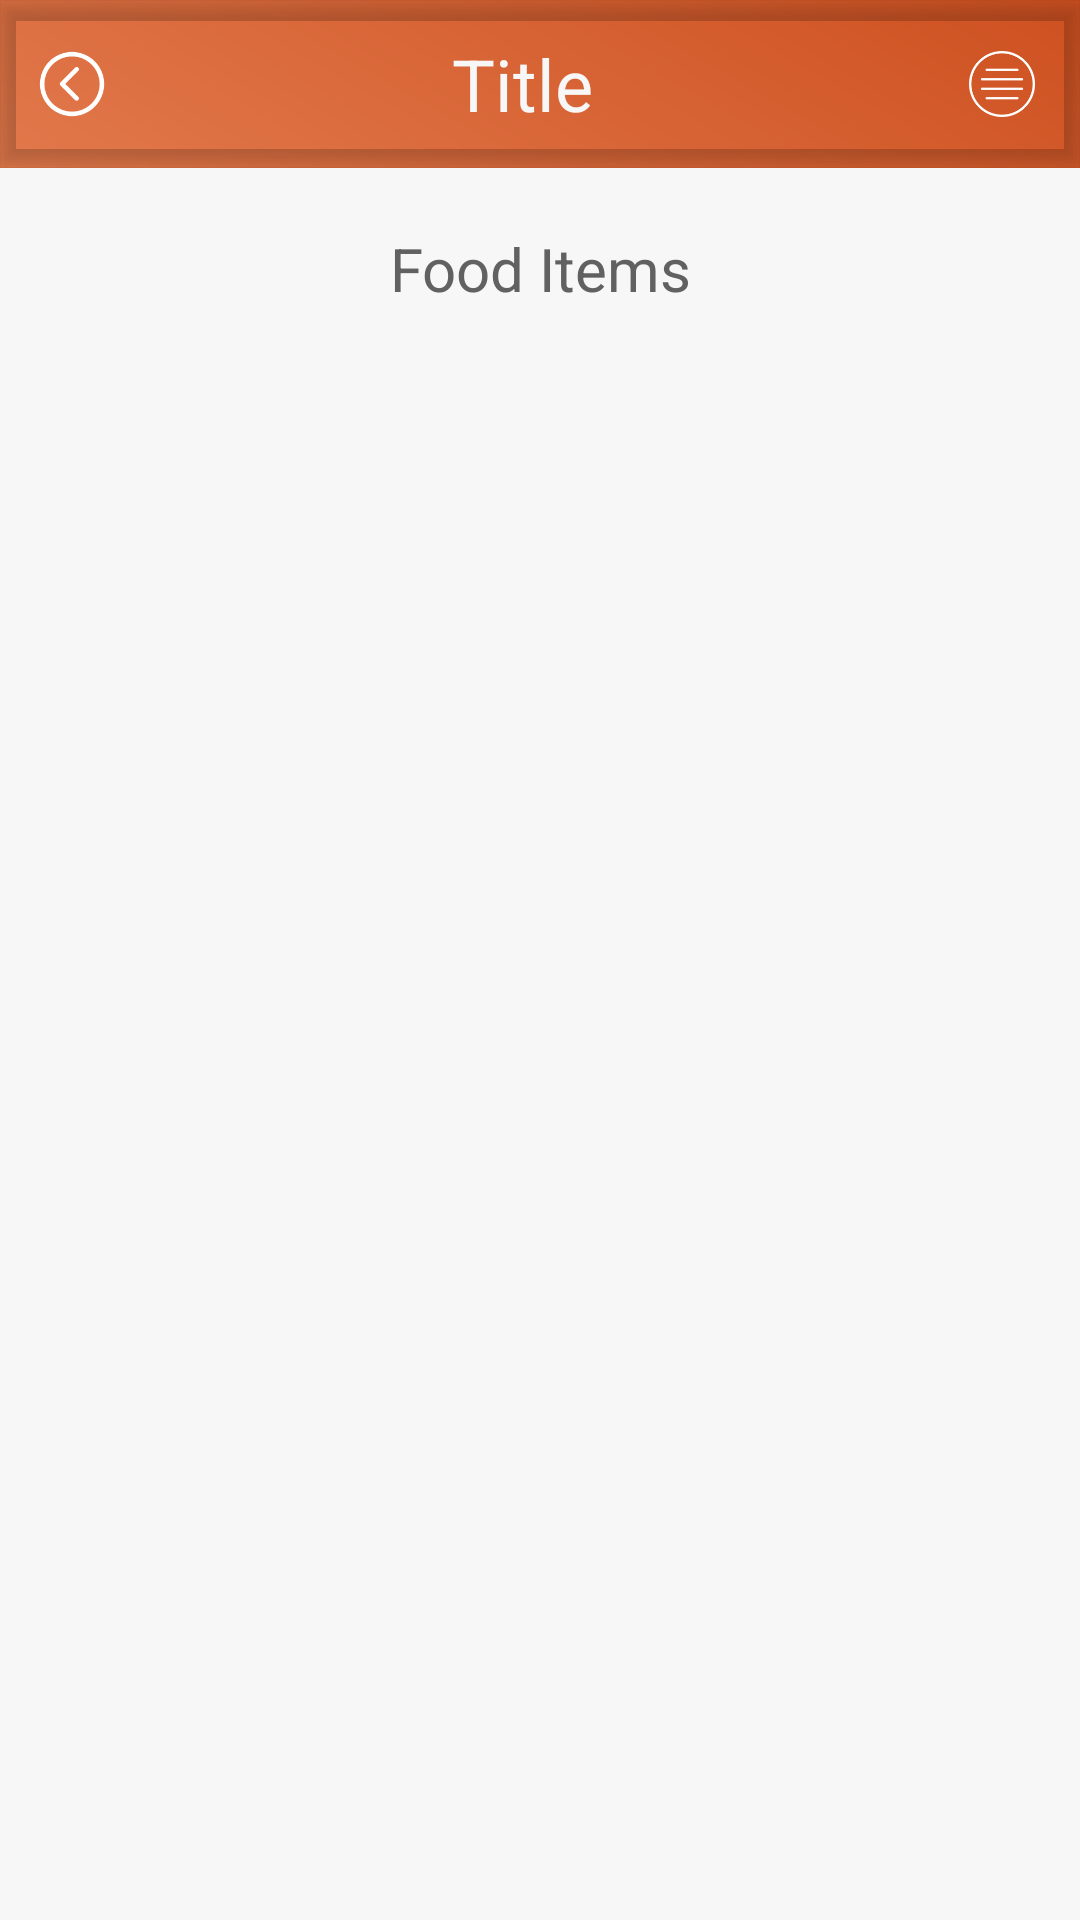

Icons on this 1080*1920 Android screen, each with the point to tap as [x,y]:
left arrow: [72,84]
